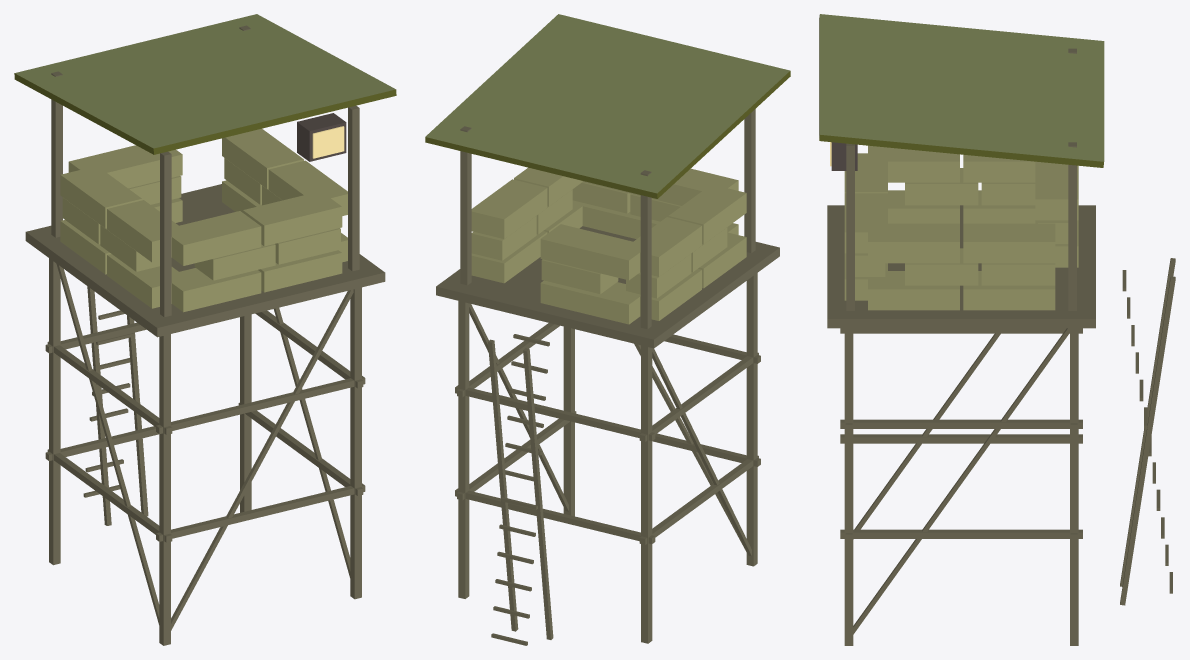
Rendered from SM_Torreta_v0_Acero_LOD0.fbx.
3 renders of one model, left to right at view 1: azimuth 30°, elevation 25°; view 2: azimuth 150°, elevation 25°; view 3: azimuth 270°, elevation 25°, orthographic. The views are drawn at different scales.
Visible parts, largest first — view 1: SM_bloques.torreta_v0_LOD0, Luces; view 2: SM_bloques.torreta_v0_LOD0; view 3: SM_bloques.torreta_v0_LOD0.
Part boxes in pixels (x1,y1,x2,y2): SM_bloques.torreta_v0_LOD0: (14, 14, 396, 645); Luces: (312, 126, 344, 158); SM_bloques.torreta_v0_LOD0: (425, 14, 790, 645); SM_bloques.torreta_v0_LOD0: (819, 14, 1175, 645).
Size of the model in its own units: 3.3 by 6.65 by 4.12.
